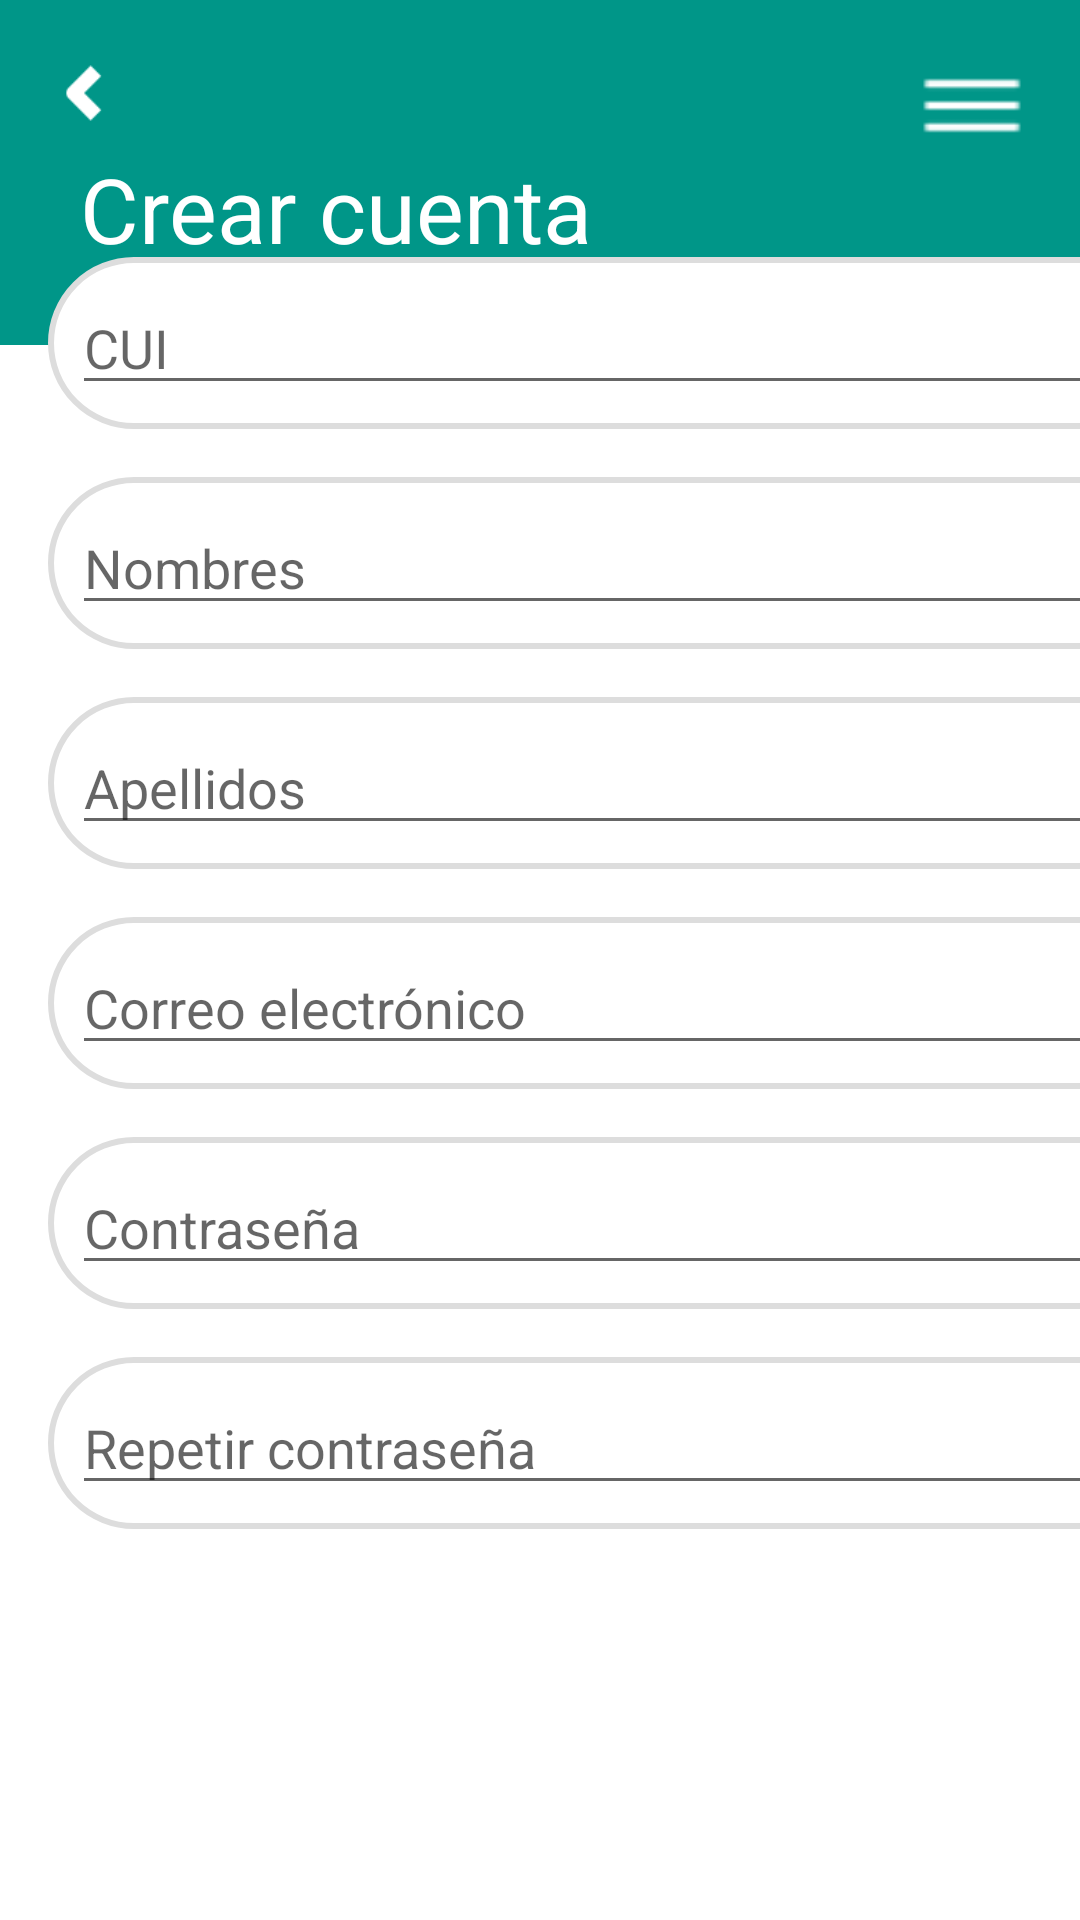

Where icons sit on this 1080*1920 app screen, as box(x1, y1, x2, y2):
iconizquierda: box(66, 65, 101, 121)
